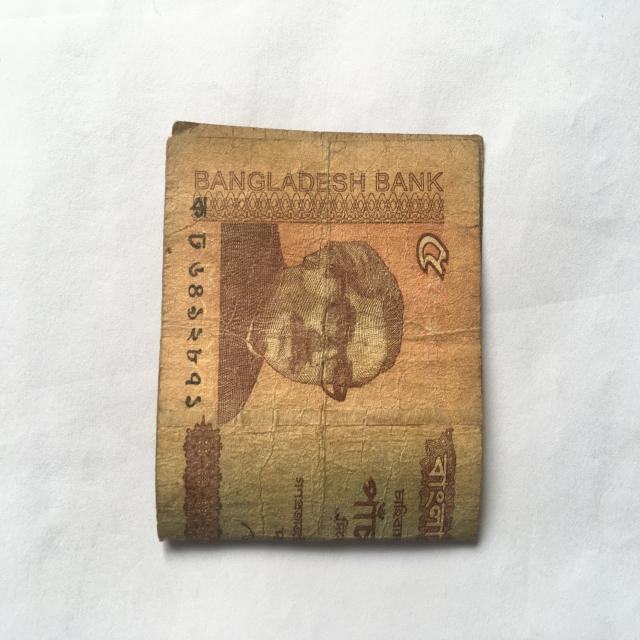Taka: (157, 103, 487, 548)
